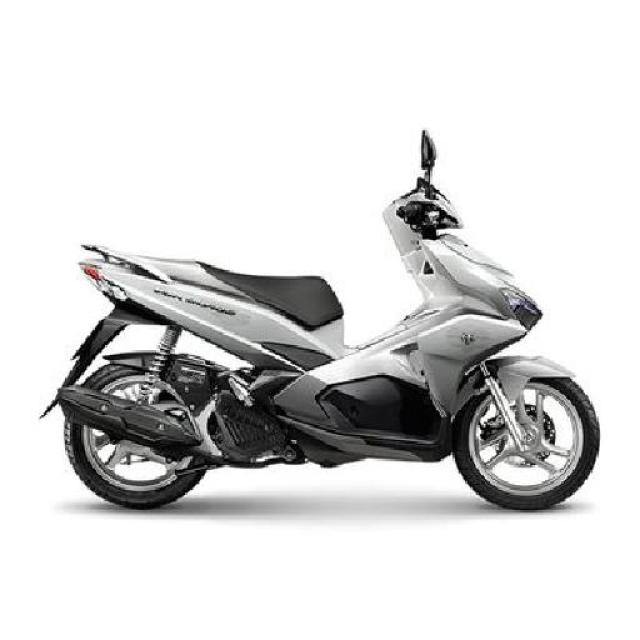All: (36, 160, 605, 514)
Head: (375, 175, 467, 244)
Tail: (70, 236, 155, 317)
